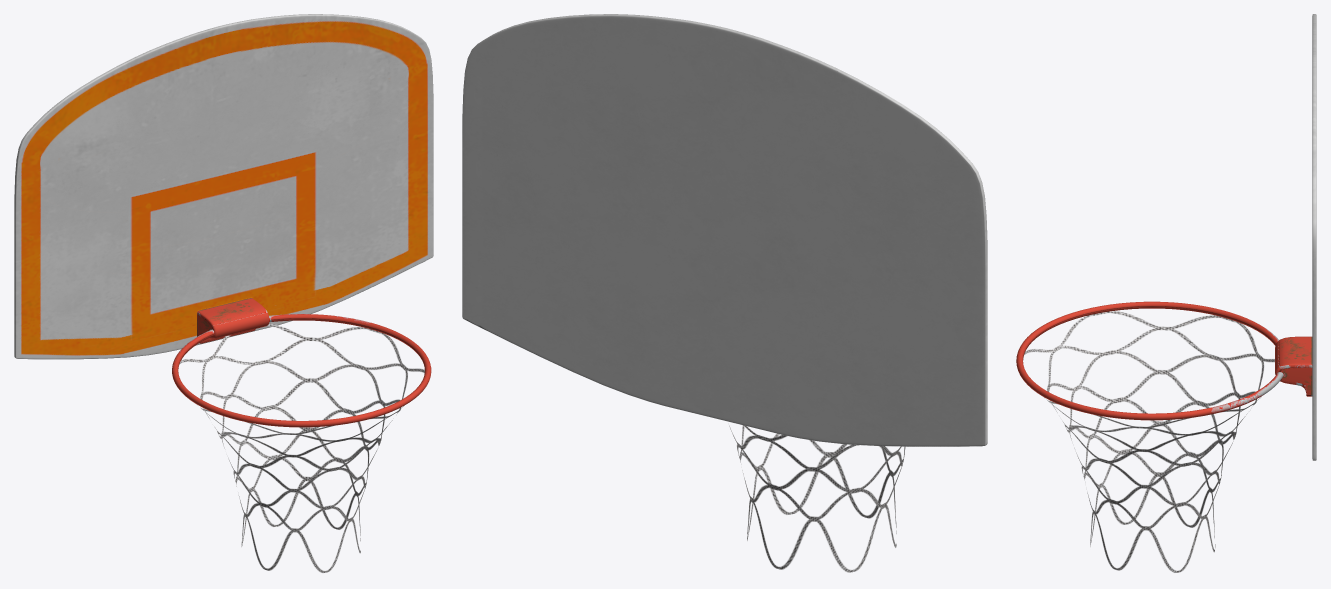
File: hoop.glb
3 views of the same model, side by side, from view 1: azimuth 30°, elevation 25°; view 2: azimuth 150°, elevation 25°; view 3: azimuth 270°, elevation 25° (orthographic). The views are drawn at different scales.
Parts seen in each view (by area): view 1: board, net; view 2: board, net; view 3: net, board.
Boxes of the visible parts, left/top/right/bottom form: board: left=14, top=14, right=433, bottom=427; net: left=179, top=323, right=424, bottom=572; board: left=462, top=14, right=987, bottom=446; net: left=729, top=425, right=905, bottom=572; net: left=1023, top=311, right=1274, bottom=572; board: left=1016, top=14, right=1316, bottom=460.
Size of the model in its own units: 14.93 by 15.94 by 8.87.
2 materials, 2 textured.
